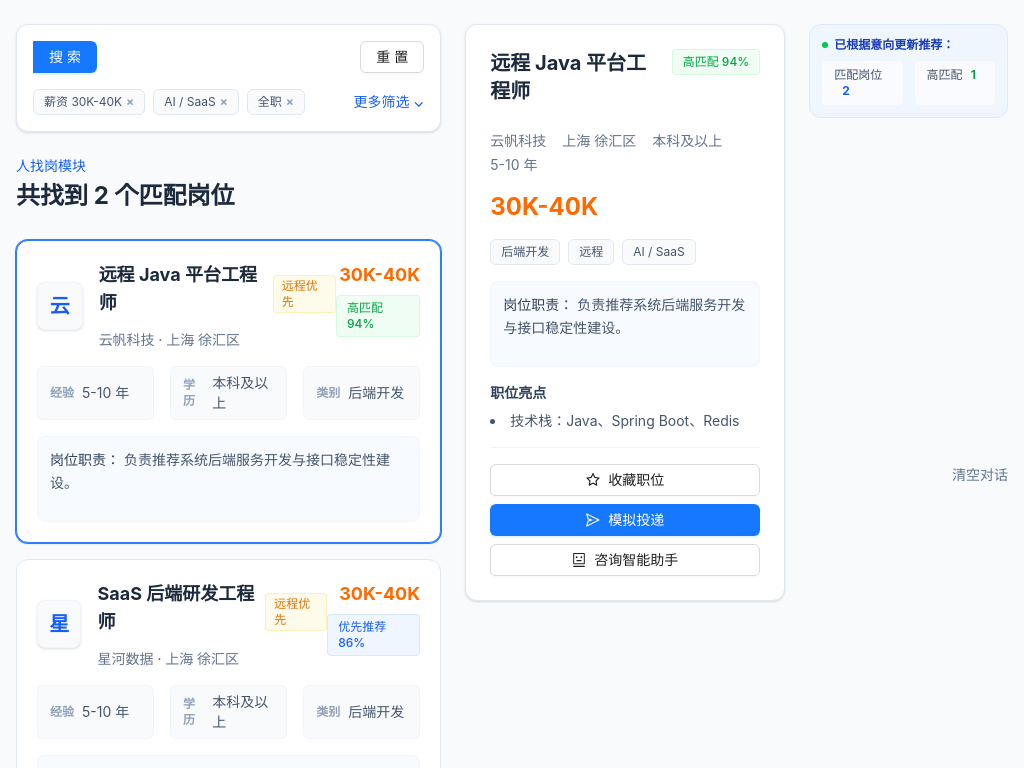
Test: JobSearchView › requests remote jobs with the selected filter and renders updated result
Click the button with test id "job-filter-chip-industry-ai-saas": (196, 102) [153, 89, 239, 115]
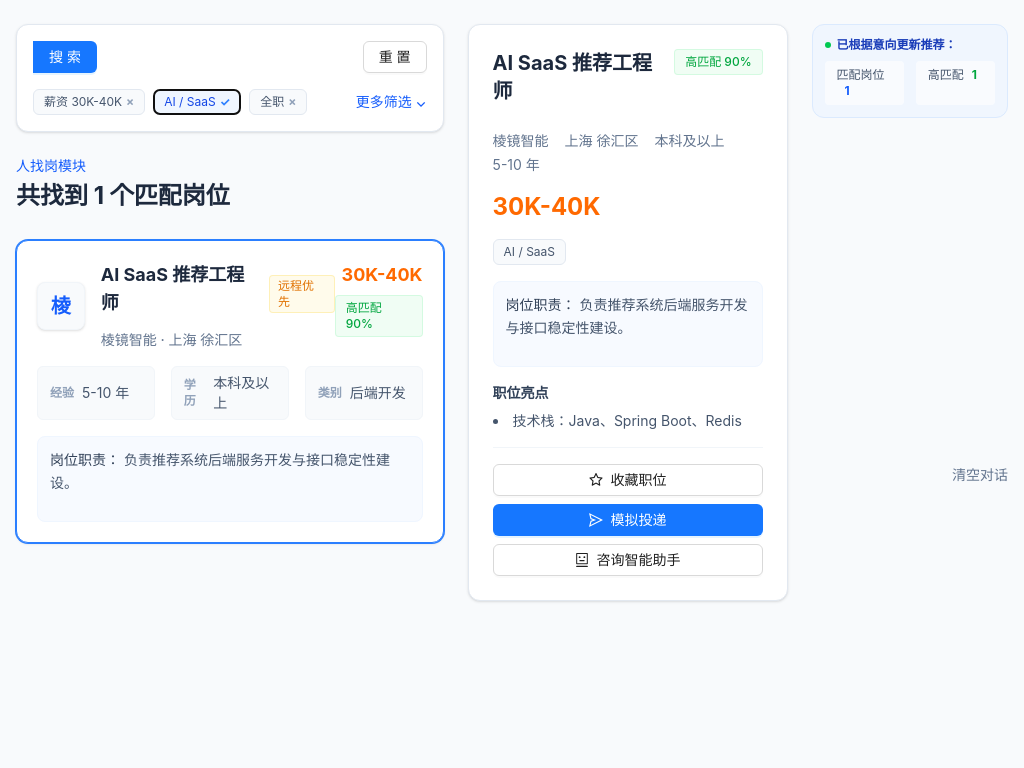
Expected: the option with test id "job-card-201" shows "AI SaaS 推荐工程师", [16, 240, 444, 542]
Expected: the option with test id "job-card-101" is gone
Expected: the heading "共找到 1 个匹配岗位" is shown, [16, 180, 230, 212]
